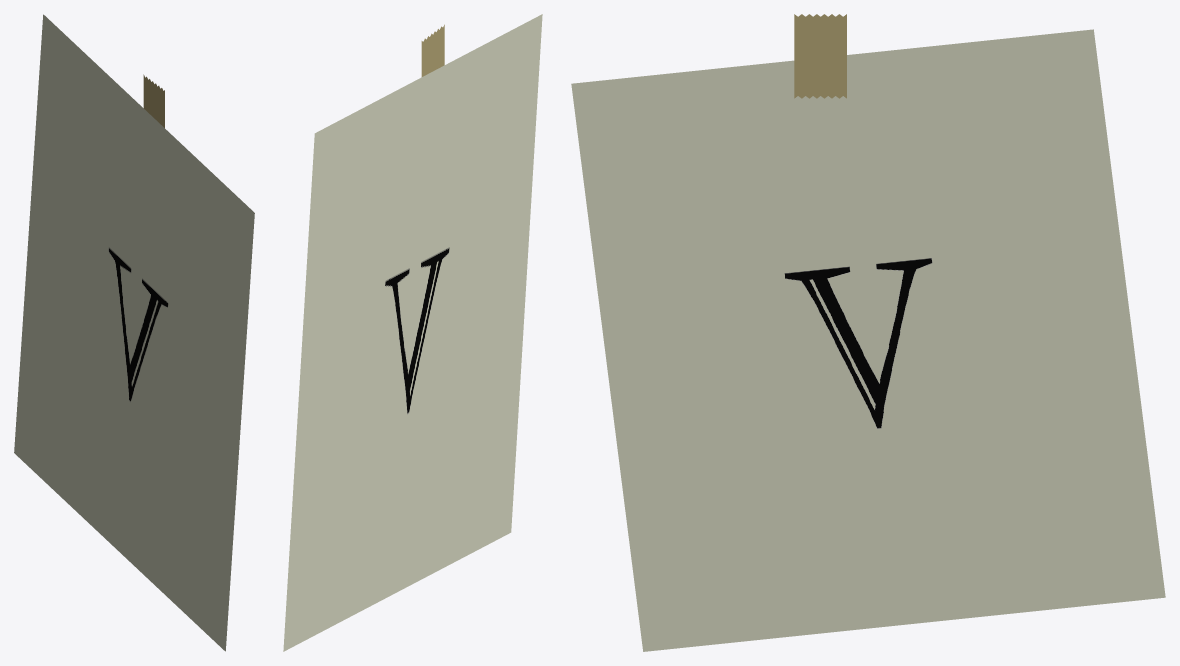
Rendered from wall-note.fbx.
3 renders of one model, left to right at view 1: azimuth 30°, elevation 25°; view 2: azimuth 150°, elevation 25°; view 3: azimuth 270°, elevation 25°, orthographic. The views are drawn at different scales.
Parts seen in each view (by area): view 1: note, tape; view 2: note, tape; view 3: note, tape.
Part boxes in pixels (x1,y1,x2,y2): note: [14, 14, 254, 651]; tape: [143, 74, 164, 127]; note: [283, 14, 542, 651]; tape: [421, 24, 444, 76]; note: [571, 29, 1165, 651]; tape: [794, 14, 846, 98].
Size of the model in its own units: 0.0156 by 13.39 by 11.3.
